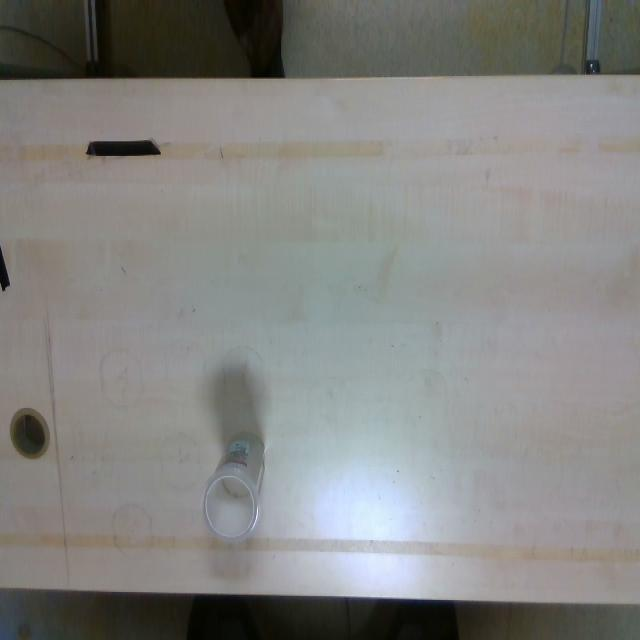cups: (200, 429, 266, 540)
